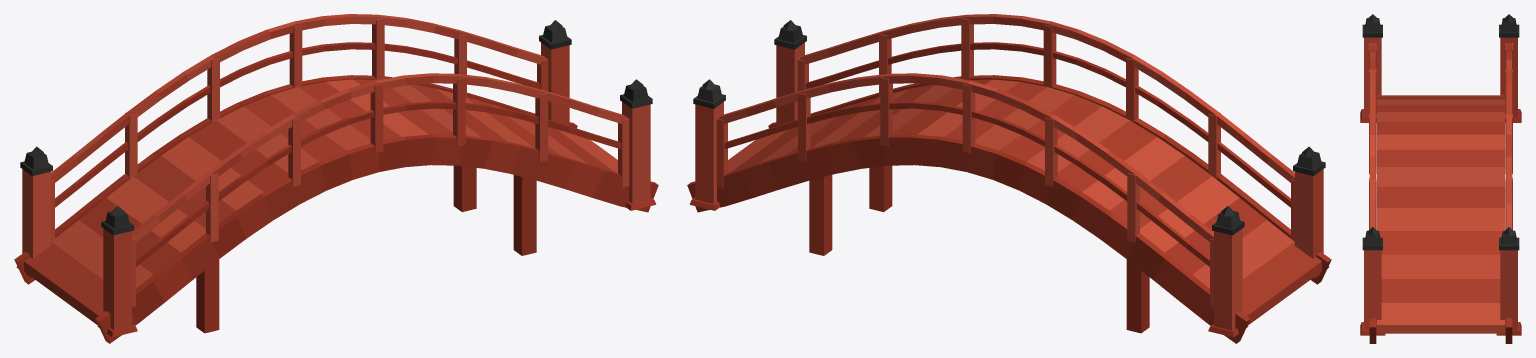
The model's file is zen_bridge.glb.
3 renders of one model, left to right at view 1: azimuth 30°, elevation 25°; view 2: azimuth 150°, elevation 25°; view 3: azimuth 270°, elevation 25°, orthographic. The views are drawn at different scales.
Parts seen in each view (by area): view 1: zen_bridge; view 2: zen_bridge; view 3: zen_bridge.
Boxes of the visible parts, x1,y1,x2,y2 form: zen_bridge: (14,14,658,343); zen_bridge: (687,14,1331,343); zen_bridge: (1360,14,1521,343).
Bounding box in the file's own units: 9.17 × 3.38 × 2.72.
